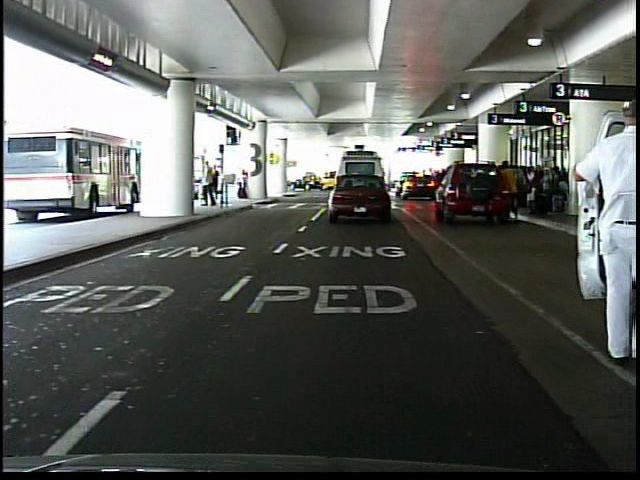person: (563, 96, 639, 367), (588, 149, 619, 230), (502, 158, 522, 223), (200, 155, 218, 210), (209, 162, 223, 208), (237, 166, 254, 203)
